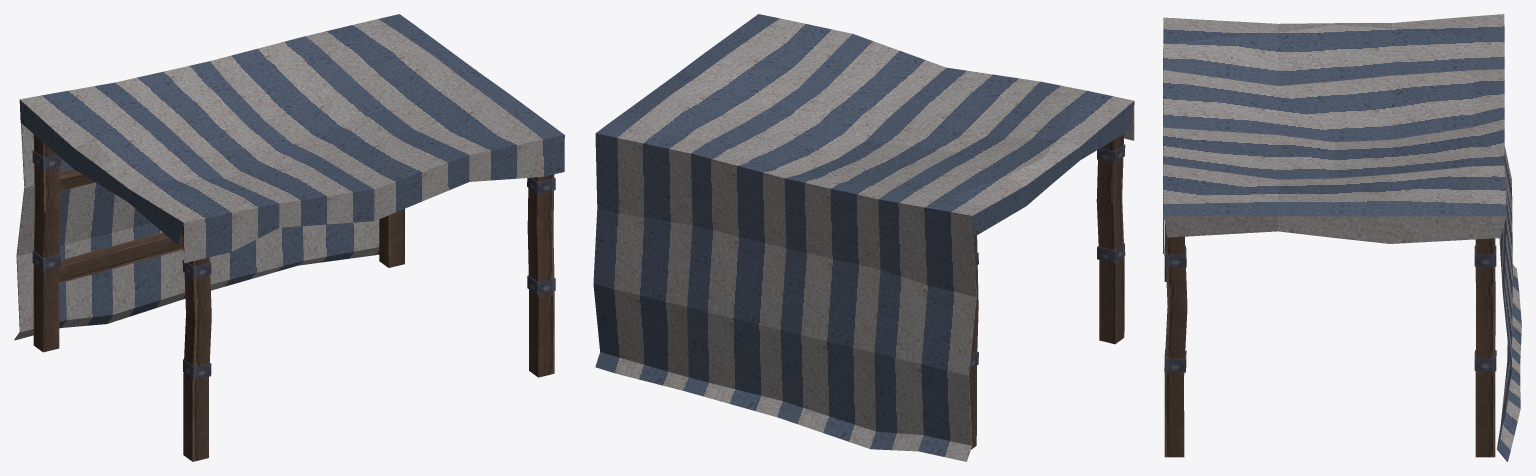
The model's file is market_stall_blue.glb.
3 views of the same model, side by side, from view 1: azimuth 30°, elevation 25°; view 2: azimuth 150°, elevation 25°; view 3: azimuth 270°, elevation 25° (orthographic). The views are drawn at different scales.
Parts seen in each view (by area): view 1: market_stall_blue; view 2: market_stall_blue; view 3: market_stall_blue.
Part boxes in pixels (x1,y1,x2,y2): market_stall_blue: [14, 14, 564, 461]; market_stall_blue: [593, 14, 1134, 461]; market_stall_blue: [1163, 14, 1521, 461].
Bounding box in the file's own units: 4.42 × 2.81 × 3.46.
2 materials, 2 textured.
